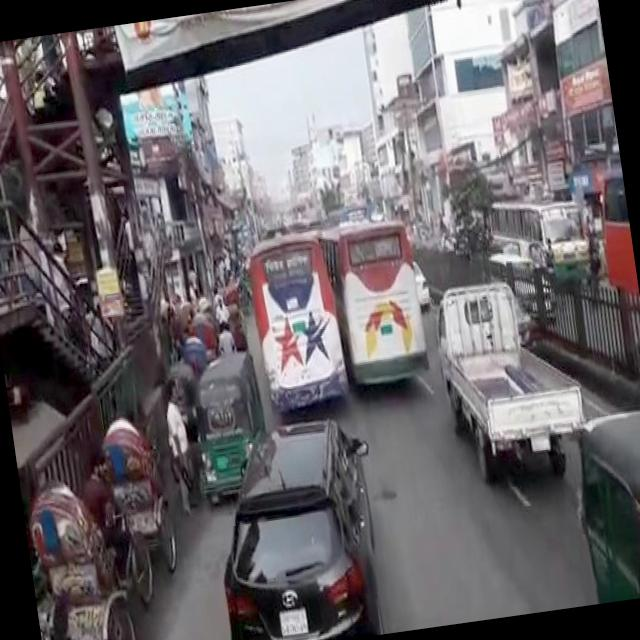bus: (242, 222, 352, 412), (316, 209, 430, 389), (482, 185, 593, 292), (590, 166, 638, 292)
car: (199, 404, 391, 640), (491, 244, 556, 322), (413, 262, 428, 304)
motorcycle: (22, 465, 167, 640), (562, 403, 640, 600), (182, 344, 274, 496), (99, 409, 180, 580), (185, 304, 218, 348), (180, 329, 208, 372)
truck: (428, 267, 592, 473)
